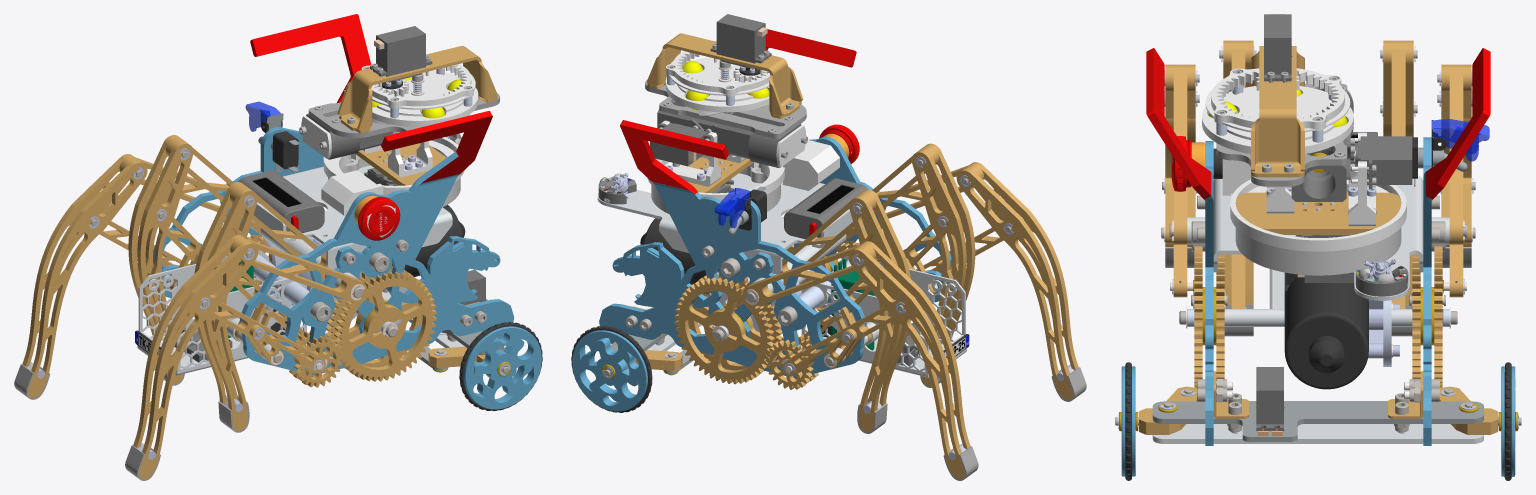
The model's file is TK_nouveau.glb.
3 views of the same model, side by side, from view 1: azimuth 30°, elevation 25°; view 2: azimuth 150°, elevation 25°; view 3: azimuth 270°, elevation 25° (orthographic). The views are drawn at different scales.
Parts seen in each view (by area): view 1: TK-ASS_batit-2/TK-TT 01 - Tôle bâti_MJ_design-1, TK-PF_DE-2 (×4), TK-PF_DE-1 (×4), TK-ASS_batit-2/TK-EngExterDroit-m2-Z50-1, TK-ASS_batit-1/TK-TT 01 - Tôle bâti_MJ_design-1, TK-PF_C-1 (×4), TK-Assemblage2-2/TK-SD 5 - ROUE avec motif-1, TK-coffre-1, CANON-1/tôle SM-1, TK-PF_HI-1 (×4), TK-04-Bouton d'arrêt d'urgence-1, TK-ASS_plateau-1/TK-plateau-2 (+17 smaller); view 2: TK-ASS_batit-1/TK-TT 01 - Tôle bâti_MJ_design-1, TK-PF_DE-1 (×4), TK-PF_DE-2 (×4), TK-ASS_batit-1/TK-EngExterDroit-m2-Z50-2, TK-PF_C-1 (×4), TK-Assemblage2-1/TK-SD 5 - ROUE avec motif-1, TK-ASS_plateau-1/TK-plateau-2, TK-coffre-1, TK-ASS_batit-2/TK-TT 01 - Tôle bâti_MJ_design-1, CANON-1/tôle SM-1, TK-PF_HI-1 (×4), TK-04-Bouton d'arrêt d'urgence-1 (+20 smaller); view 3: TK-ASS_moteur-1/TK-Volume moteur-1, TK-PF_C-1 (×4), TK-SD 0 BATI_SECOND-1, TK-ASS_batit-1/TK-TT 01 - Tôle bâti_MJ_design-1, TK-ASS_batit-2/TK-TT 01 - Tôle bâti_MJ_design-1, CANON-1/tôle SM-1, TK-SD 0 - BATI-2, ROTATION-1/Plateau rotation Z-1, ROTATION-1/glissement_canon V3-2, TK-ASS_plateau-1/TK-plateau-2, CANON-1/barillet-1, ROTATION-1/centrage court-1 (+32 smaller).
Part boxes in pixels (x1,y1,x2,y2): TK-ASS_batit-2/TK-TT 01 - Tôle bâti_MJ_design-1: [239, 111, 514, 375]; TK-PF_DE-2 (×4): [28, 141, 258, 479]; TK-PF_DE-1 (×4): [22, 135, 244, 448]; TK-ASS_batit-2/TK-EngExterDroit-m2-Z50-1: [334, 272, 436, 381]; TK-ASS_batit-1/TK-TT 01 - Tôle bâti_MJ_design-1: [153, 14, 371, 298]; TK-PF_C-1 (×4): [119, 137, 367, 302]; TK-Assemblage2-2/TK-SD 5 - ROUE avec motif-1: [464, 326, 541, 409]; TK-coffre-1: [137, 250, 306, 375]; CANON-1/tôle SM-1: [337, 46, 497, 133]; TK-PF_HI-1 (×4): [79, 210, 325, 373]; TK-04-Bouton d'arrêt d'urgence-1: [321, 170, 400, 240]; TK-ASS_plateau-1/TK-plateau-2: [253, 165, 452, 269]; TK-ASS_batit-1/TK-TT 01 - Tôle bâti_MJ_design-1: [599, 120, 866, 377]; TK-PF_DE-1 (×4): [848, 150, 1073, 479]; TK-PF_DE-2 (×4): [862, 143, 1078, 449]; TK-ASS_batit-1/TK-EngExterDroit-m2-Z50-2: [674, 277, 774, 384]; TK-PF_C-1 (×4): [742, 146, 983, 306]; TK-Assemblage2-1/TK-SD 5 - ROUE avec motif-1: [572, 330, 647, 411]; TK-ASS_plateau-1/TK-plateau-2: [597, 173, 852, 274]; TK-coffre-1: [801, 256, 966, 377]; TK-ASS_batit-2/TK-TT 01 - Tôle bâti_MJ_design-1: [765, 29, 951, 303]; CANON-1/tôle SM-1: [647, 33, 802, 118]; TK-PF_HI-1 (×4): [783, 213, 1023, 376]; TK-04-Bouton d'arrêt d'urgence-1: [783, 124, 859, 190]; TK-ASS_moteur-1/TK-Volume moteur-1: [1284, 276, 1383, 389]; TK-PF_C-1 (×4): [1173, 40, 1463, 244]; TK-SD 0 BATI_SECOND-1: [1152, 401, 1483, 441]; TK-ASS_batit-1/TK-TT 01 - Tôle bâti_MJ_design-1: [1423, 48, 1490, 445]; TK-ASS_batit-2/TK-TT 01 - Tôle bâti_MJ_design-1: [1146, 48, 1213, 445]; CANON-1/tôle SM-1: [1251, 46, 1304, 177]; TK-SD 0 - BATI-2: [1152, 424, 1483, 443]; ROTATION-1/Plateau rotation Z-1: [1235, 192, 1401, 234]; ROTATION-1/glissement_canon V3-2: [1235, 227, 1401, 275]; TK-ASS_plateau-1/TK-plateau-2: [1213, 136, 1423, 300]; CANON-1/barillet-1: [1202, 86, 1353, 153]; ROTATION-1/centrage court-1: [1230, 171, 1406, 251].
Size of the model in its own units: 0.4288 by 0.3395 by 0.2946.
